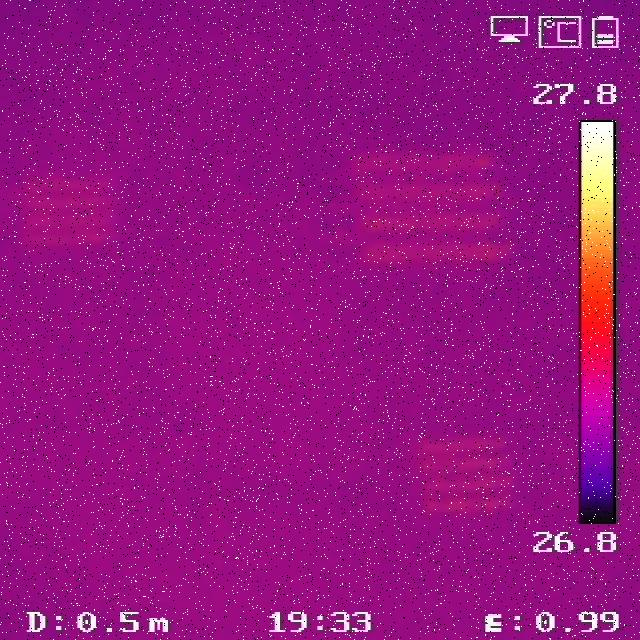threshold 4-bar target: (361, 150, 511, 262), (424, 437, 523, 513), (21, 174, 110, 243)
